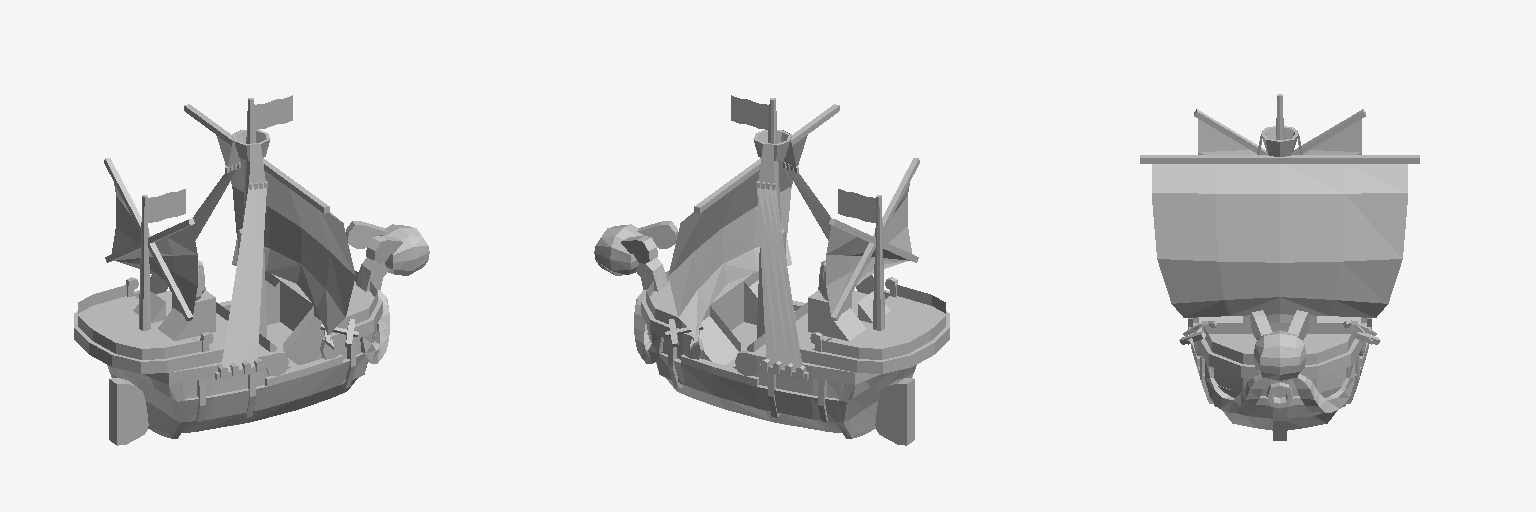
The model's file is Merry-Go.obj.
The picture shows the model from 3 angles: view 1: azimuth 30°, elevation 25°; view 2: azimuth 150°, elevation 25°; view 3: azimuth 270°, elevation 25°; orthographic projection.
Parts seen in each view (by area): view 1: Cube; view 2: Cube; view 3: Cube.
Boxes of the visible parts, <box> form: Cube: <box>74,95,429,445</box>; Cube: <box>594,95,949,445</box>; Cube: <box>1140,94,1419,440</box>.
Bounding box in the file's own units: 2.48 × 2.24 × 1.8.